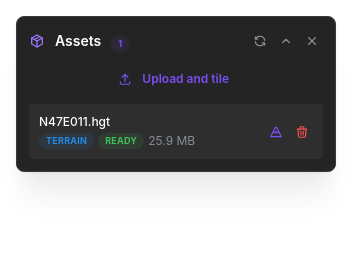
AssetsPanel › shows why a DEM asset did not load as terrain
The width and height of the screenshot is (352, 269).
Click the button named "Use N47E011.hgt as globe terrain": (276,132) [265,121,287,143]
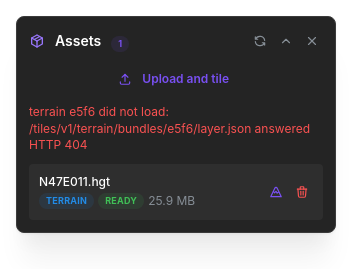
Check: the text with test id "assets-error" shows "terrain e5f6 did not load: /tiles/v1/terrain/bundles/e5f6/layer.json answered HTTP 404", box [29,104,310,152]
